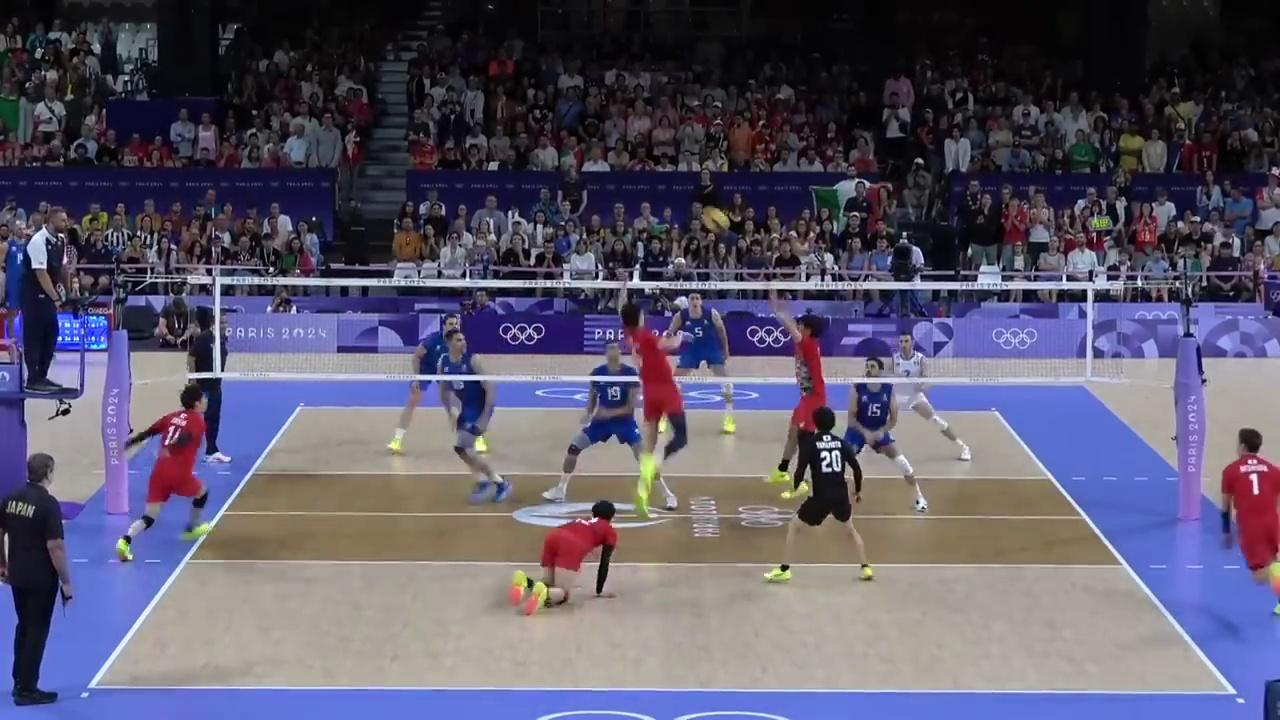ball: (704, 208, 729, 235)
